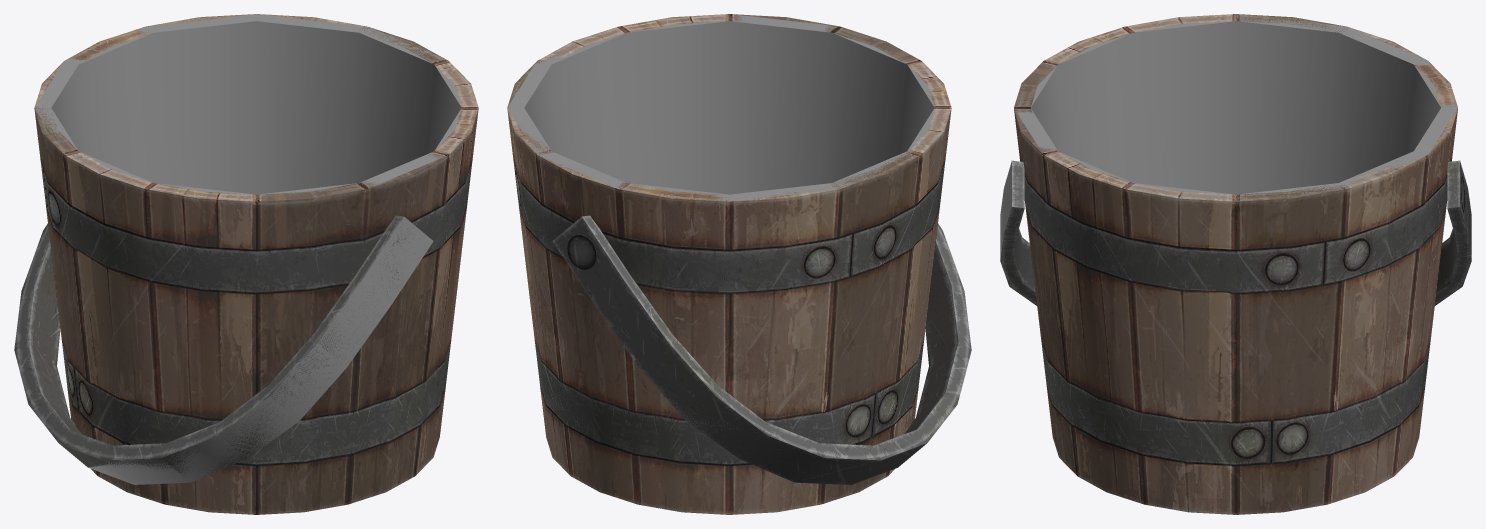
File: z_wooden_bucket_01.FBX
The picture shows the model from 3 angles, left to right: view 1: azimuth 30°, elevation 25°; view 2: azimuth 150°, elevation 25°; view 3: azimuth 270°, elevation 25°; orthographic projection.
Parts seen in each view (by area): view 1: wooden_bucket_01_LOD0, wooden_bucket_01_CLOD0; view 2: wooden_bucket_01_LOD0, wooden_bucket_01_CLOD0; view 3: wooden_bucket_01_LOD0, wooden_bucket_01_CLOD0.
Boxes of the visible parts, <box> form: wooden_bucket_01_LOD0: <box>14,14,478,514</box>; wooden_bucket_01_CLOD0: <box>34,14,461,484</box>; wooden_bucket_01_LOD0: <box>507,14,971,514</box>; wooden_bucket_01_CLOD0: <box>507,14,935,481</box>; wooden_bucket_01_LOD0: <box>1000,14,1471,514</box>; wooden_bucket_01_CLOD0: <box>1000,14,1457,259</box>.
Size of what is drawn, in the model's own units: 28.29 by 22.82 by 29.58.
